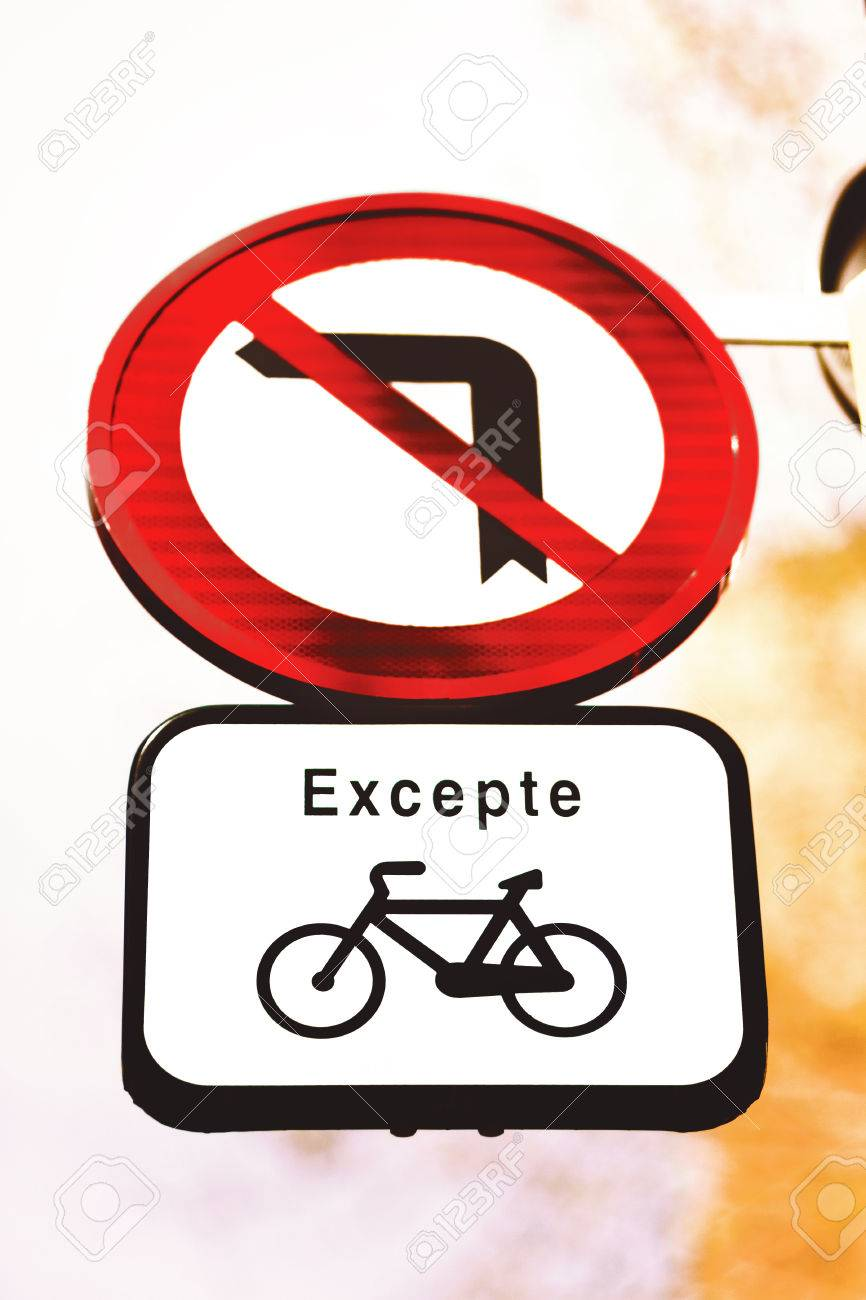No_left_turn: (86, 191, 761, 699)
